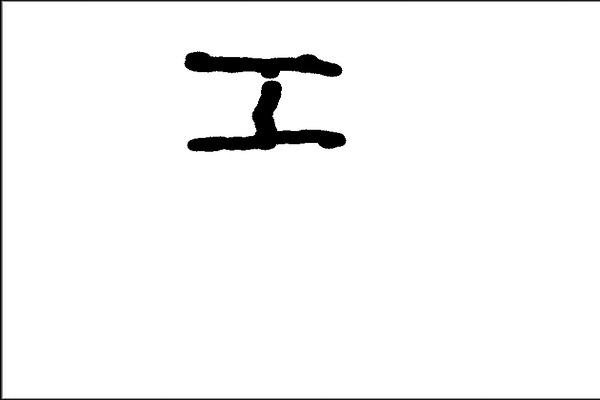i: (173, 40, 355, 172)
